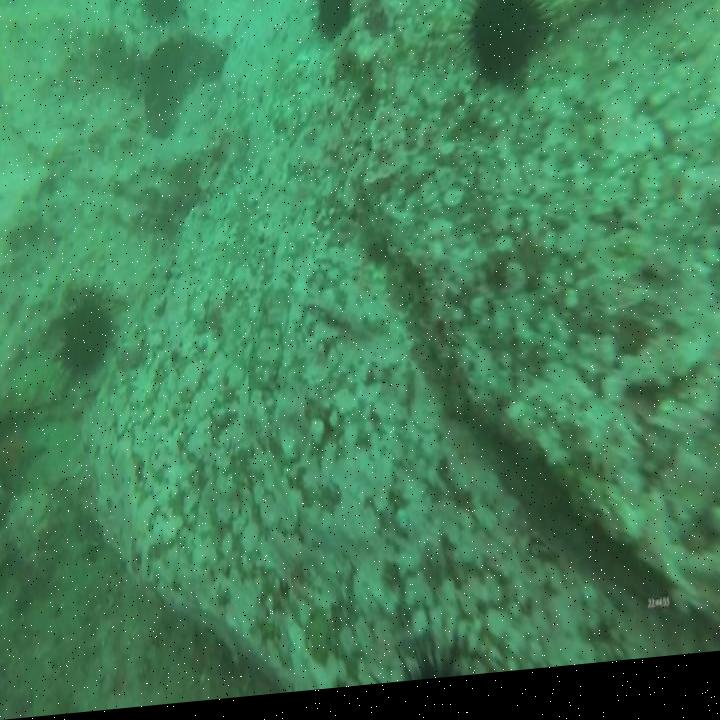echinus: (459, 0, 561, 111), (46, 280, 120, 391), (312, 0, 363, 56), (141, 0, 183, 37)
holothurian: (140, 29, 229, 155)
